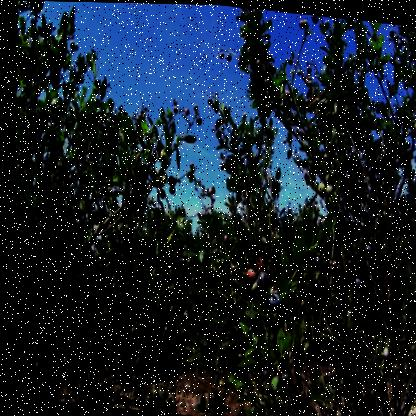intermediate: (237, 265, 257, 287)
mature: (261, 288, 280, 316), (251, 269, 269, 293)
young: (312, 181, 335, 198), (377, 330, 391, 351), (414, 330, 416, 346)
